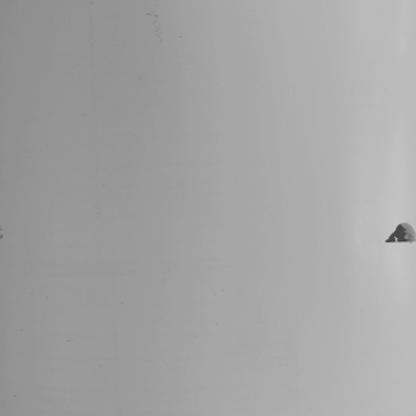kongdong: (387, 214, 416, 247)
